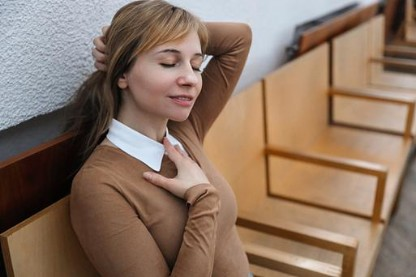闭眼: (154, 52, 181, 72), (188, 55, 204, 75)
